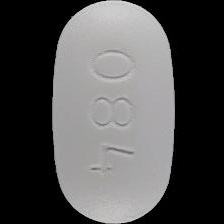63629-3348: (0, 0, 224, 224)
